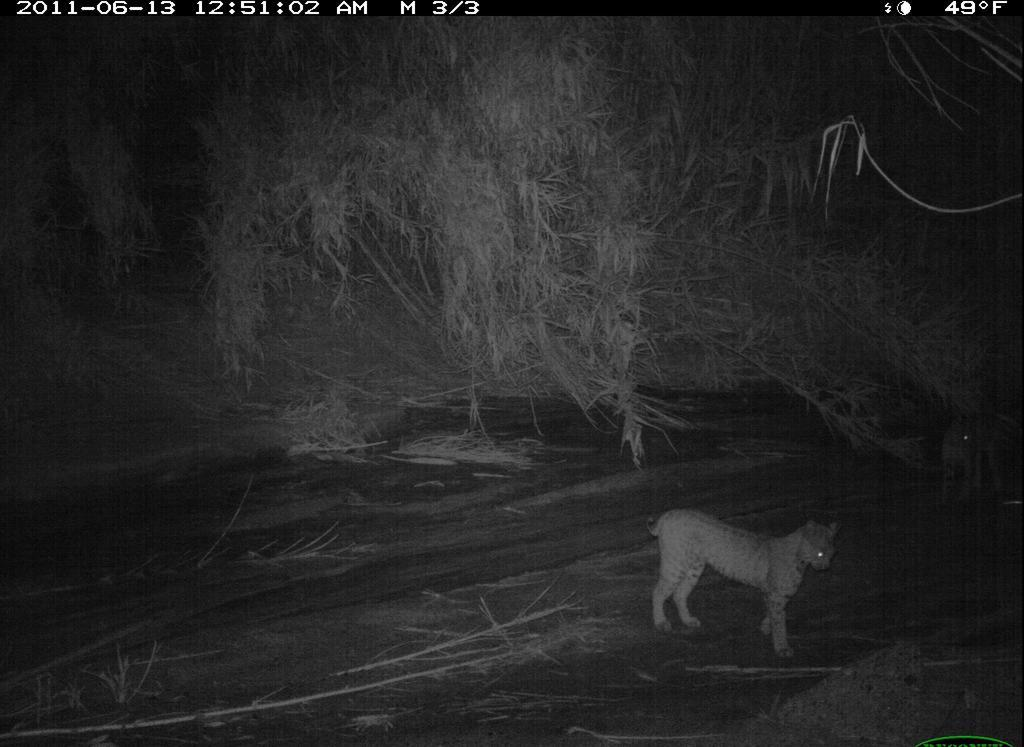bobcat: (929, 409, 1012, 511)
